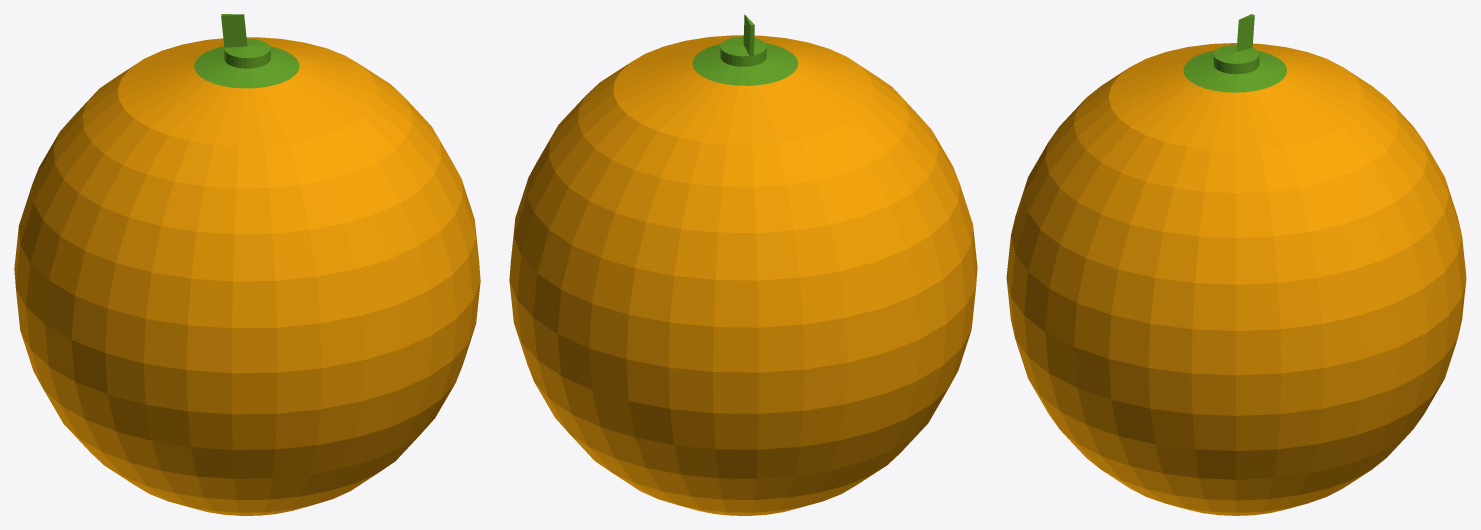
File: Orange.fbx
The picture shows the model from 3 angles, left to right: view 1: azimuth 30°, elevation 25°; view 2: azimuth 150°, elevation 25°; view 3: azimuth 270°, elevation 25°; orthographic projection.
Parts seen in each view (by area): view 1: Orange; view 2: Orange; view 3: Orange.
Part boxes in pixels (x1=…): Orange: x1=14, y1=14, x2=480, y2=515; Orange: x1=509, y1=14, x2=977, y2=515; Orange: x1=1006, y1=14, x2=1466, y2=515.
Size of the model in its own units: 63.02 by 71.42 by 62.79.
Materials: 1 (1 with a texture image).
